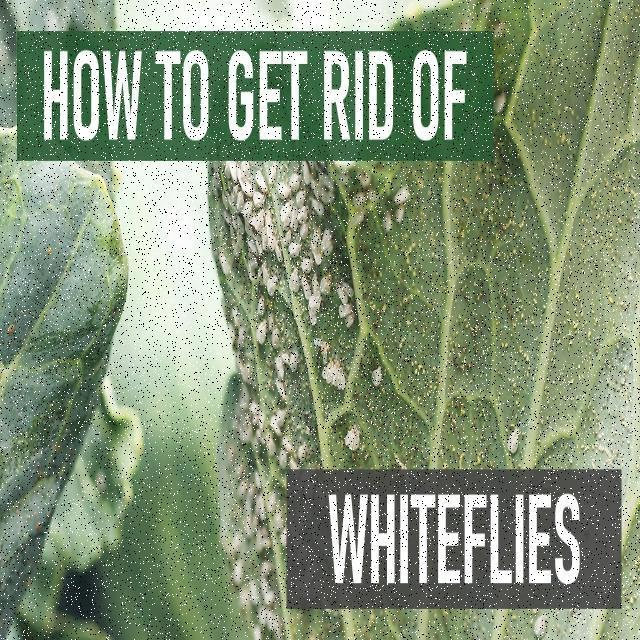Whiteflies: (190, 150, 391, 630)
